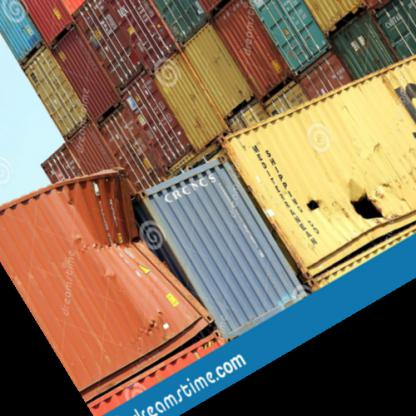Damage: (98, 180, 174, 272), (304, 179, 380, 228)
